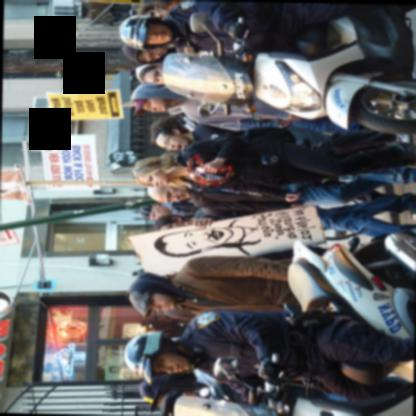backpack: (215, 125, 297, 146)
